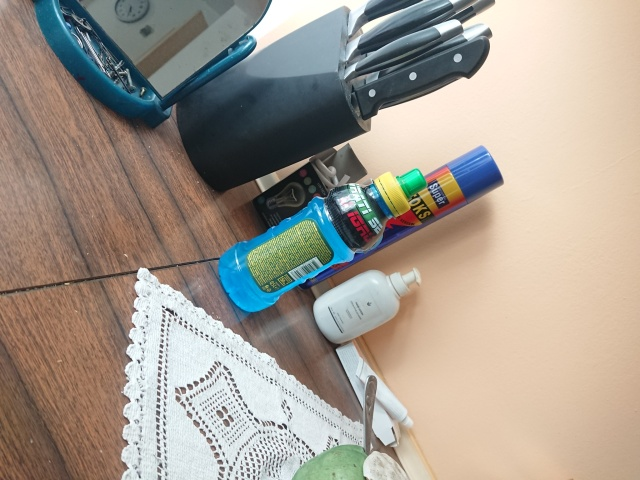Vindi Iso Sport Forest Strawberries 500mL: (216, 166, 429, 314)
